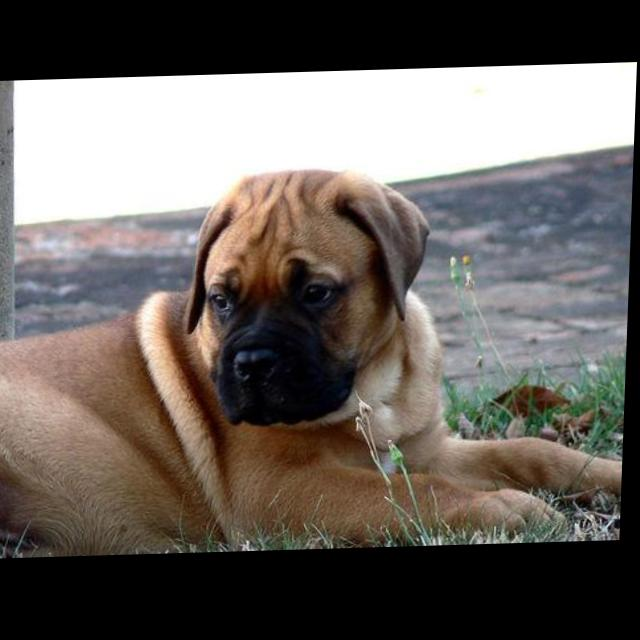bullmastiff: (1, 163, 636, 561)
